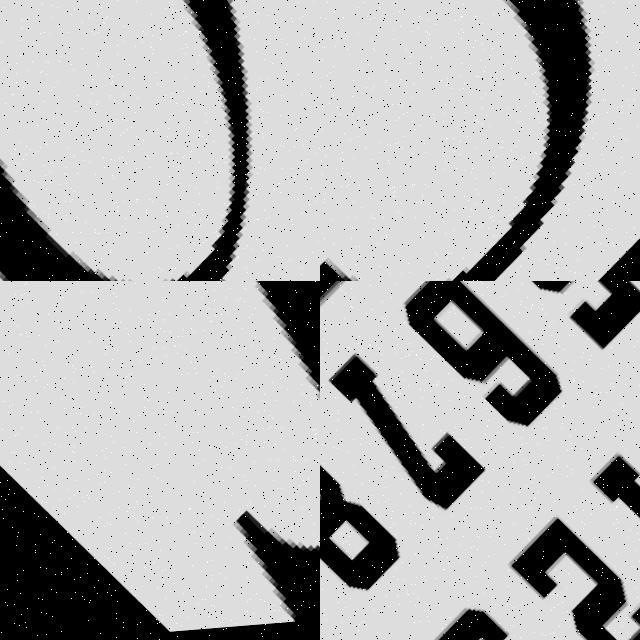0: (0, 0, 320, 281)
1: (575, 445, 640, 623)
2: (496, 507, 640, 640)
3: (406, 590, 597, 640)
5: (469, 281, 640, 371)
6: (382, 281, 575, 454)
7: (320, 335, 492, 532)
8: (320, 416, 414, 616)
C: (320, 0, 581, 281)
T: (0, 281, 320, 640)
